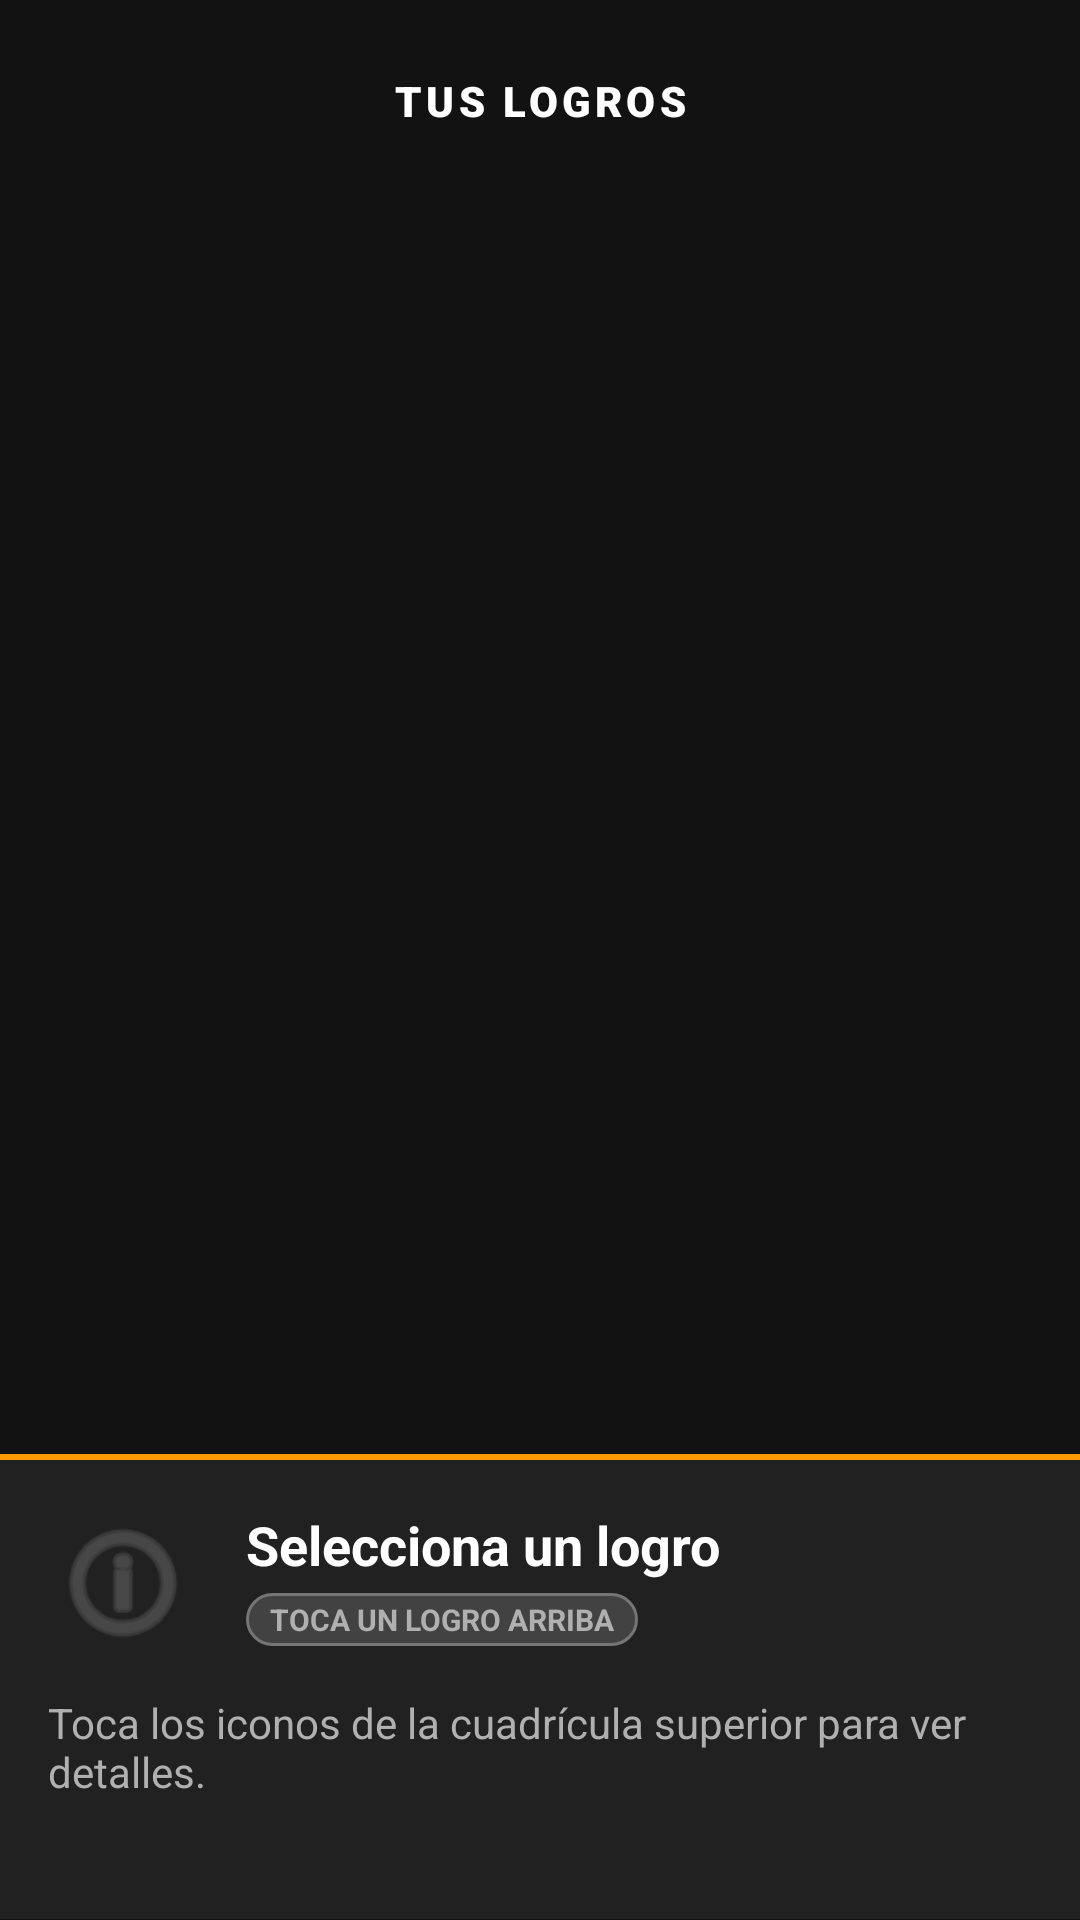

Screen size 1080px×1920px. Icon name, then its center in pixels as point (x, y):
info details: point (123, 1583)
